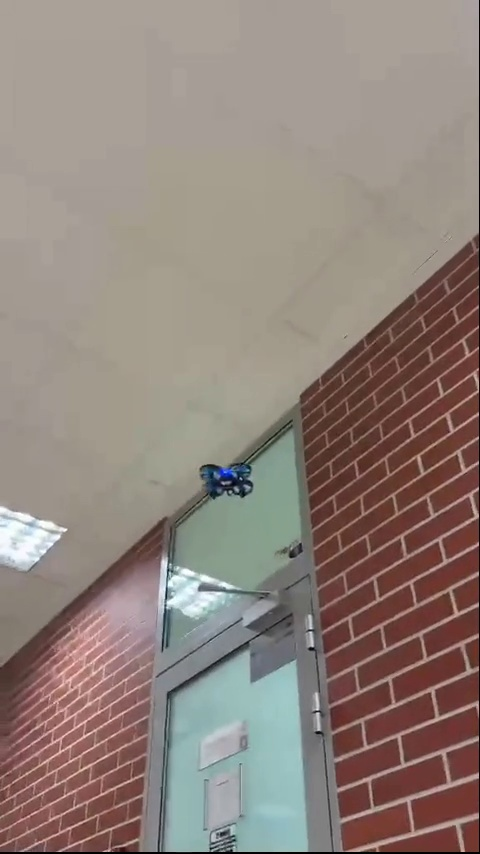drone: (203, 461, 259, 505)
